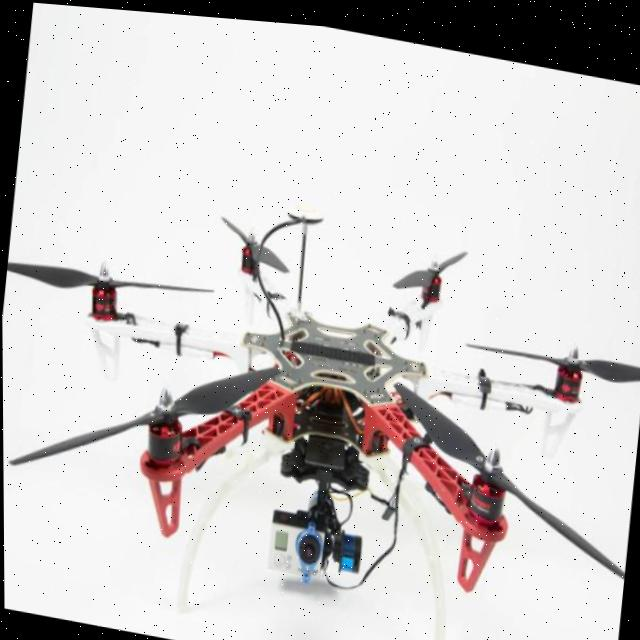drones: (1, 124, 640, 640)
